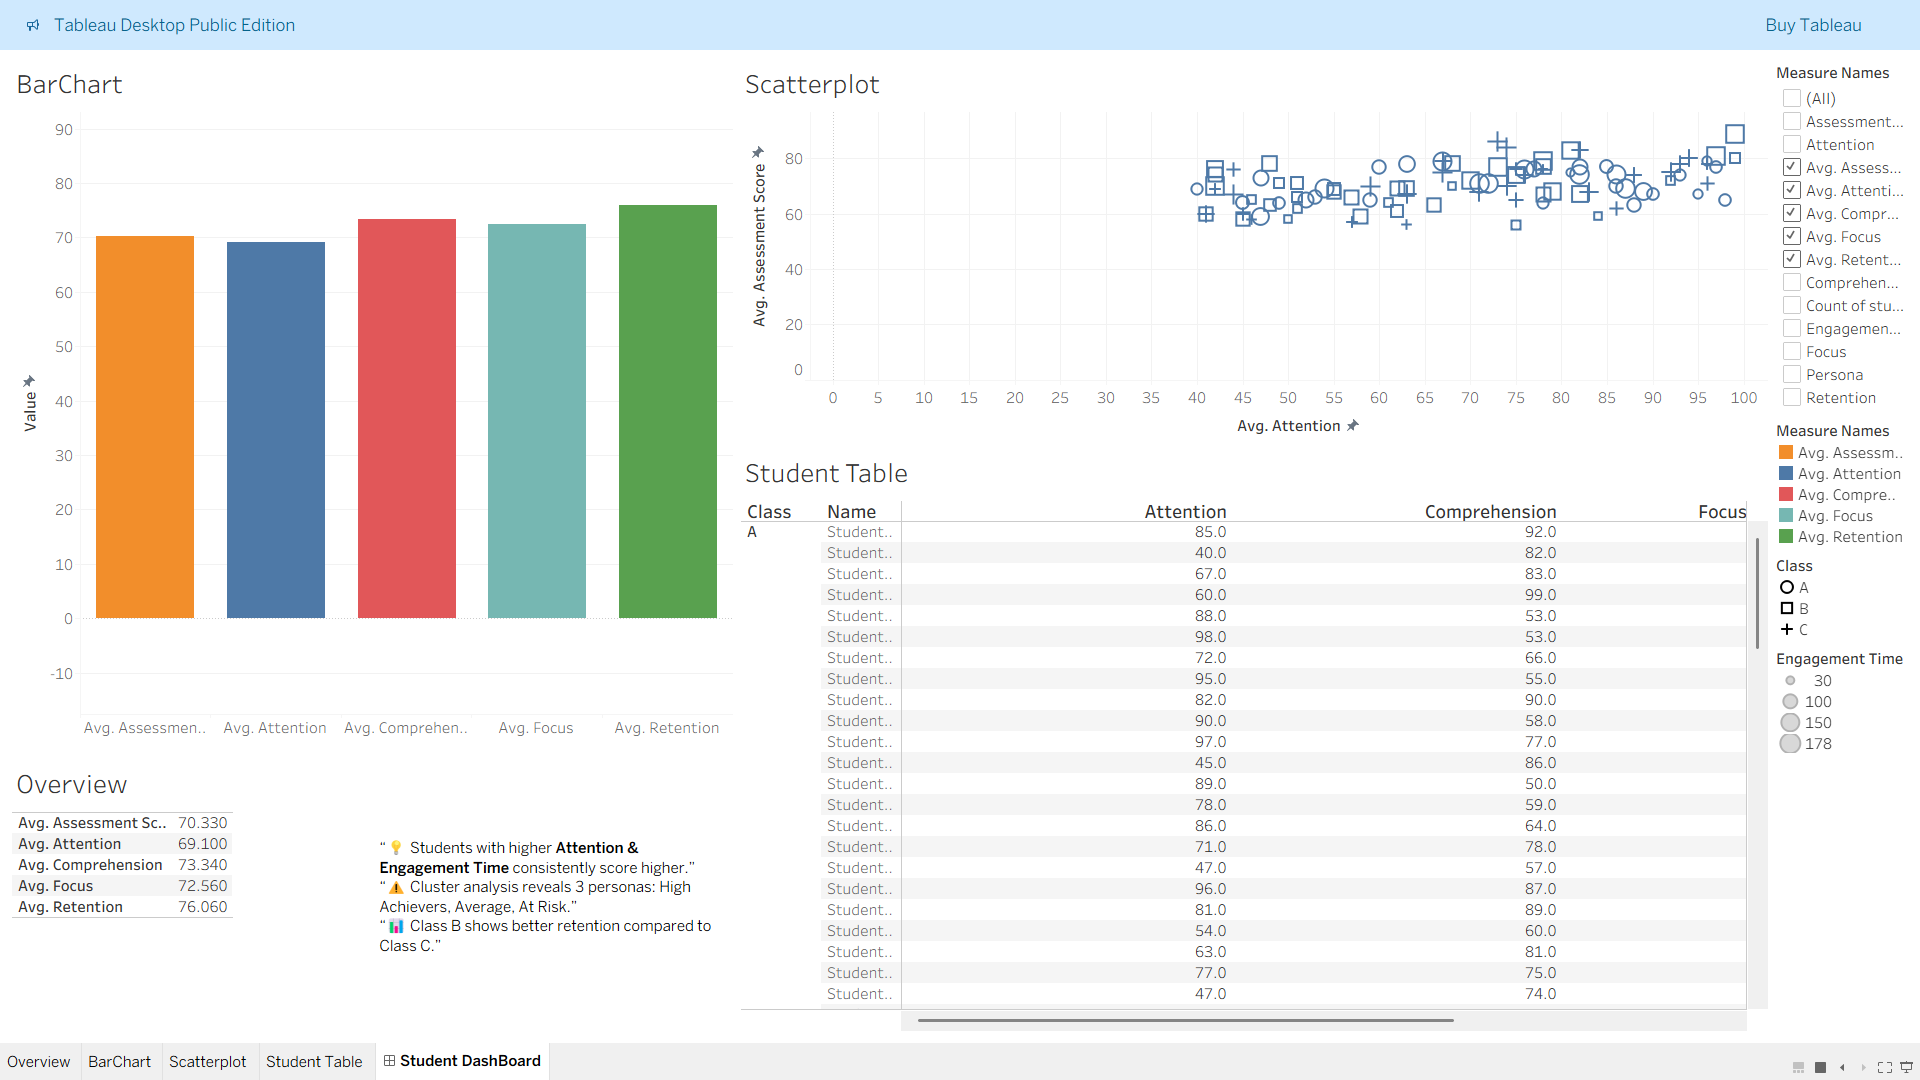

The dashboard page shown, as its layout file describes it:
{"tool":"tableau","page":{"name":"Student DashBoard","canvas":[1000,1000],"units":"permille","ordinal":0},"visuals":[{"type":"worksheet","title":"BarChart","mark":"Automatic","box":[4.7,10,375.5,702.5]},{"type":"worksheet","title":"Scatterplot","mark":"Automatic","rows":["assessment_score"],"cols":["attention"],"box":[380.2,10,533.1,390]},{"type":"filter","title":"BarChart","param":"[federated.0z4txnf13xg93e1caw1761gdmhbf].[:Measure Names]","box":[913.3,10,82,447.5]},{"type":"worksheet","title":"Student Table","mark":"Automatic","rows":["class","name"],"box":[380.2,400,533.1,590]},{"type":"legend","title":"BarChart","param":"[federated.0z4txnf13xg93e1caw1761gdmhbf].[:Measure Names]","box":[913.3,457.5,82,168.8]},{"type":"legend","title":"Scatterplot","param":"[federated.0z4txnf13xg93e1caw1761gdmhbf].[none:class:nk]","box":[913.3,626.2,82,116.2]},{"type":"worksheet","title":"Overview","mark":"Automatic","box":[4.7,712.5,187.8,277.5]},{"type":"text","box":[192.4,712.5,187.8,277.5]},{"type":"legend","title":"Scatterplot","param":"[federated.0z4txnf13xg93e1caw1761gdmhbf].[sum:engagement_time:qk]","box":[913.3,742.5,82,142.5]}]}

Visuals, with their boxes on the dashboard's canvas, which has no fixed pixel size, in thousandths of its width and height (x1, y1, x2, y2). These are canvas units, not pixel positions in the 1920x1080 screenshot, which may show the page scaled, cropped or inside an application window:
"BarChart" worksheet: {"left": 5, "top": 10, "right": 380, "bottom": 712}
"Scatterplot" worksheet: {"left": 380, "top": 10, "right": 913, "bottom": 400}
"BarChart" filter: {"left": 913, "top": 10, "right": 995, "bottom": 458}
"Student Table" worksheet: {"left": 380, "top": 400, "right": 913, "bottom": 990}
"BarChart" legend: {"left": 913, "top": 458, "right": 995, "bottom": 626}
"Scatterplot" legend: {"left": 913, "top": 626, "right": 995, "bottom": 742}
"Overview" worksheet: {"left": 5, "top": 712, "right": 192, "bottom": 990}
text: {"left": 192, "top": 712, "right": 380, "bottom": 990}
"Scatterplot" legend: {"left": 913, "top": 742, "right": 995, "bottom": 885}
